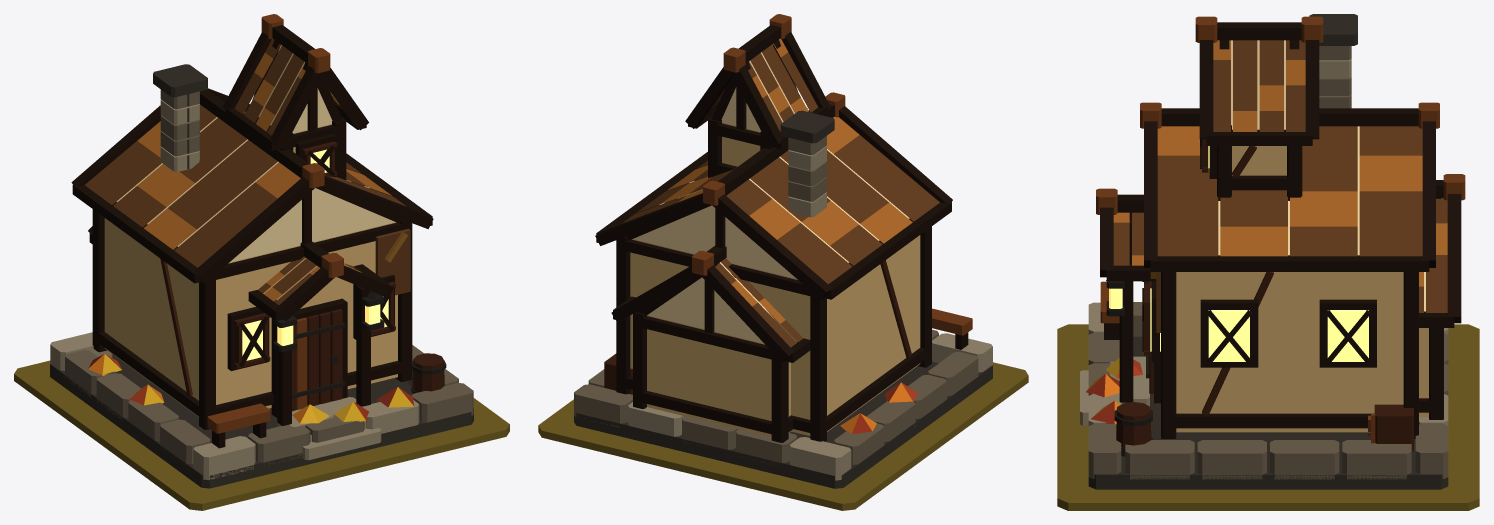
File: manor_hall_t4.glb
The picture shows the model from 3 angles, left to right: view 1: azimuth 30°, elevation 25°; view 2: azimuth 150°, elevation 25°; view 3: azimuth 270°, elevation 25°; orthographic projection. The views are drawn at different scales.
Parts seen in each view (by area): view 1: MMR | hall | T04 Architecture.001, MMR | hall | Tier 04 Ground.001, MMR | hall | T04 Autumn Dressing.001, MMR | hall | T04 Banner Flag 1.001; view 2: MMR | hall | T04 Architecture.001, MMR | hall | Tier 04 Ground.001, MMR | hall | T04 Autumn Dressing.001; view 3: MMR | hall | T04 Architecture.001, MMR | hall | Tier 04 Ground.001, MMR | hall | T04 Autumn Dressing.001.
Boxes of the visible parts, x1,y1,x2,y2 form: MMR | hall | T04 Architecture.001: (50,14,473,488); MMR | hall | Tier 04 Ground.001: (14,360,509,510); MMR | hall | T04 Autumn Dressing.001: (88,353,414,423); MMR | hall | T04 Banner Flag 1.001: (375,228,410,295); MMR | hall | T04 Architecture.001: (574,14,992,488); MMR | hall | Tier 04 Ground.001: (538,362,1028,510); MMR | hall | T04 Autumn Dressing.001: (840,382,917,434); MMR | hall | T04 Architecture.001: (1080,14,1465,489); MMR | hall | Tier 04 Ground.001: (1057,324,1479,510); MMR | hall | T04 Autumn Dressing.001: (1086,358,1142,424).
Bounding box in the file's own units: 2.35 × 2.57 × 2.35.
2 materials, 1 textured.
